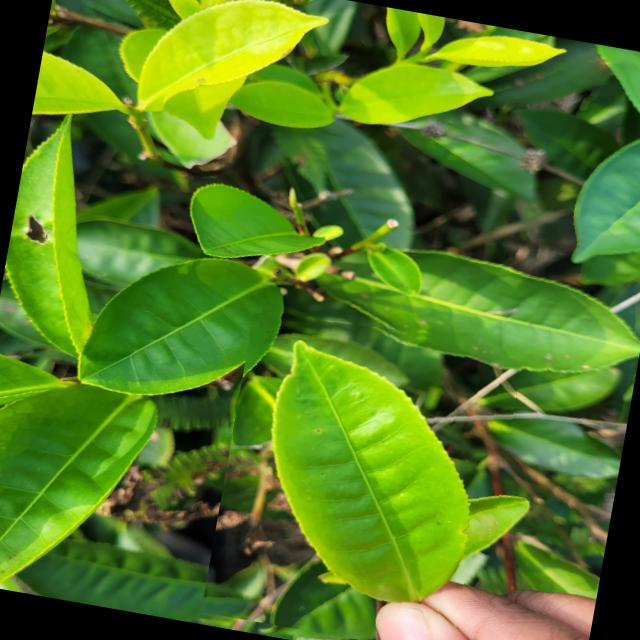Category B(2-4 days): (200, 297, 534, 640)
